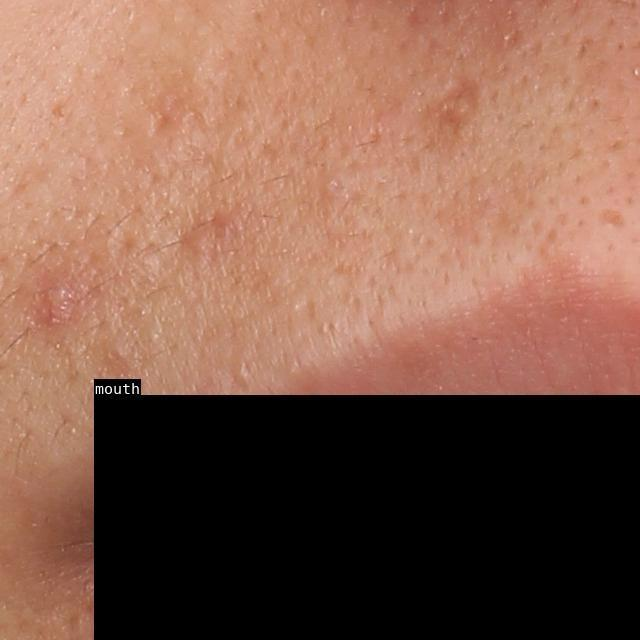atrophic_scar: (418, 71, 491, 154), (598, 206, 632, 230)
papule: (41, 277, 74, 322), (182, 225, 218, 256)
